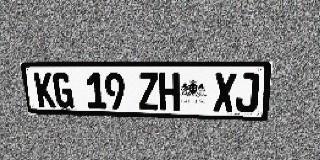1: (85, 73, 107, 109)
9: (104, 73, 126, 109)
G: (52, 73, 74, 108)
H: (159, 73, 179, 111)
J: (235, 73, 260, 113)
K: (33, 73, 56, 108)
X: (213, 73, 236, 112)
Z: (138, 73, 159, 110)
